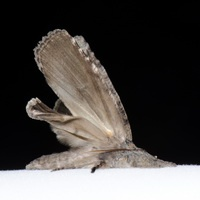insect: (26, 29, 175, 170)
